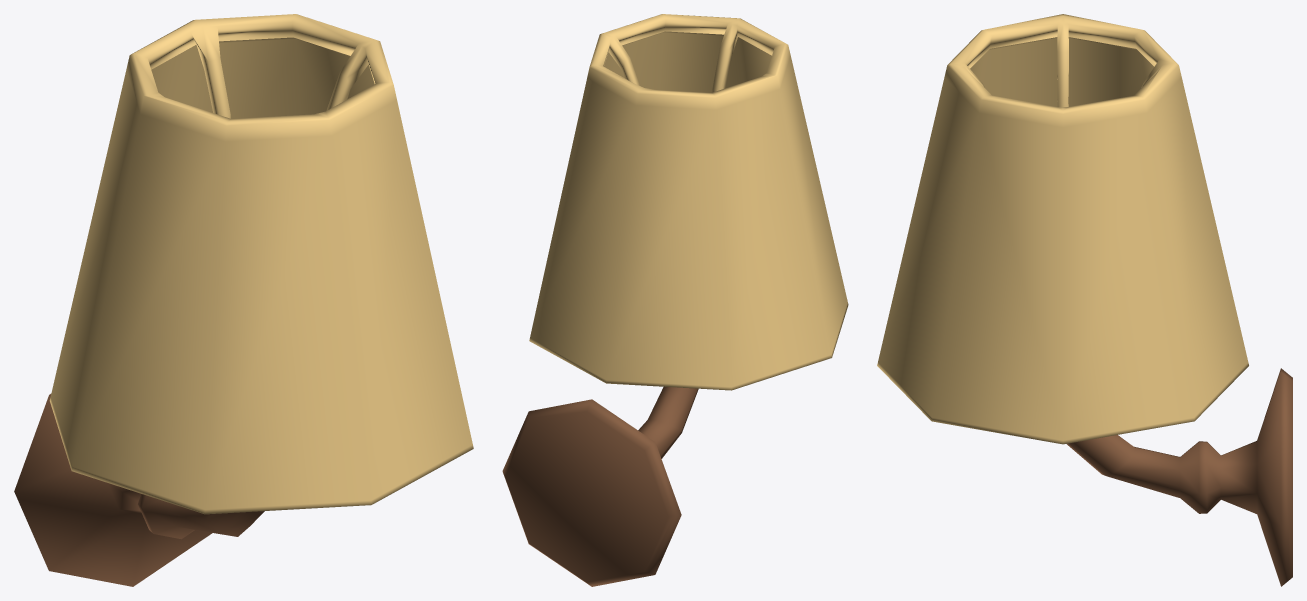
Rendered from small_lamp.glb.
3 renders of one model, left to right at view 1: azimuth 30°, elevation 25°; view 2: azimuth 150°, elevation 25°; view 3: azimuth 270°, elevation 25°, orthographic. The views are drawn at different scales.
Parts seen in each view (by area): view 1: head, foot; view 2: head, foot; view 3: head, foot.
Part boxes in pixels (<box>): head: <box>49,14,473,514</box>; foot: <box>14,394,264,586</box>; head: <box>529,14,848,390</box>; foot: <box>502,386,698,586</box>; head: <box>877,14,1248,444</box>; foot: <box>1067,368,1292,586</box>.
Bounding box in the file's own units: 1.21 × 1.87 × 1.35.
